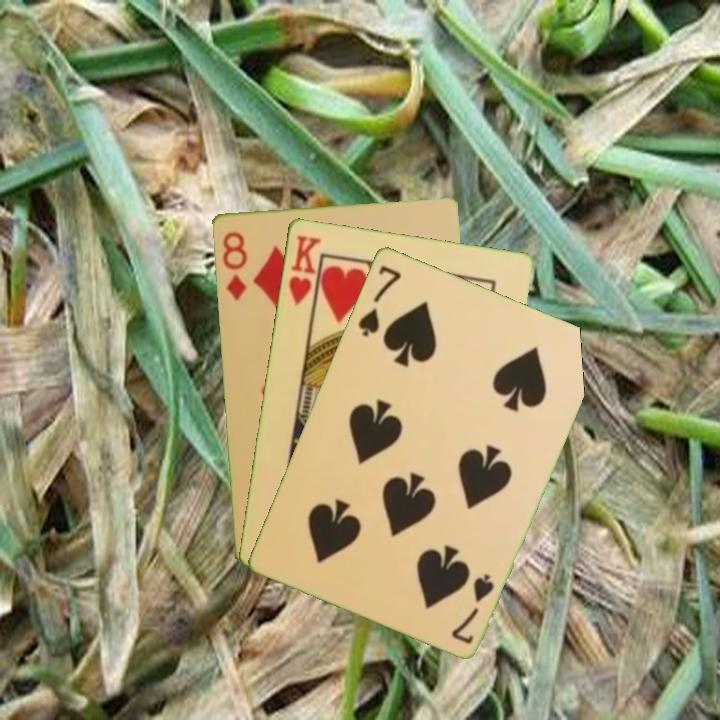7s: (354, 261, 404, 339), (447, 569, 497, 647)
8d: (218, 227, 250, 303)
Kh: (284, 231, 323, 315)
